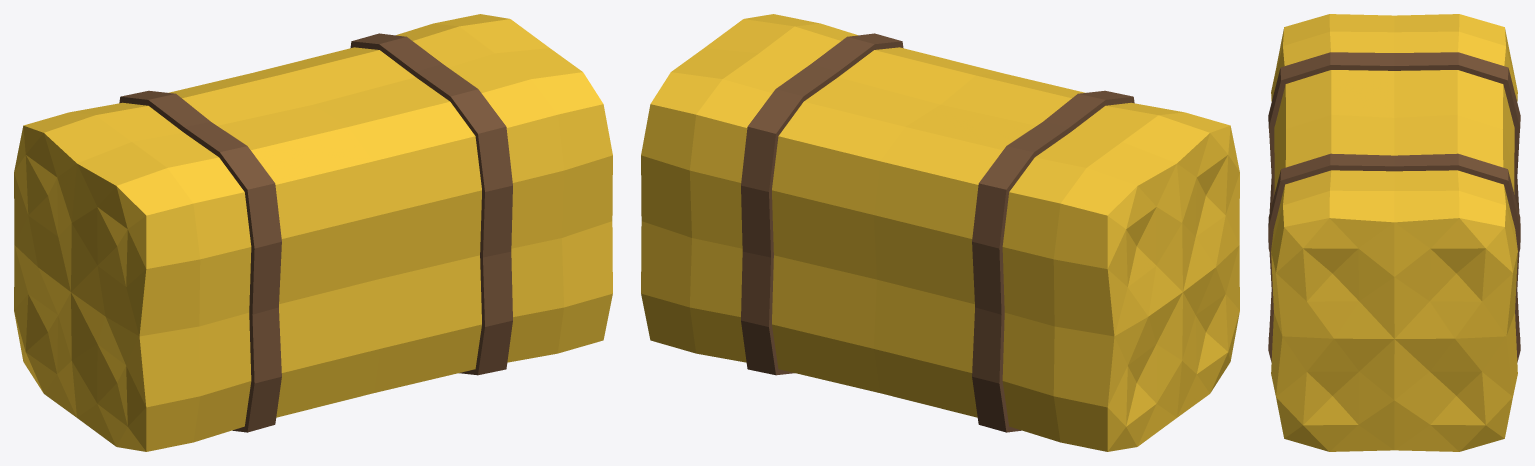
The model's file is Isl_3_Hay_1.fbx.
The picture shows the model from 3 angles, left to right: view 1: azimuth 30°, elevation 25°; view 2: azimuth 150°, elevation 25°; view 3: azimuth 270°, elevation 25°; orthographic projection. The views are drawn at different scales.
Visible parts, largest first — view 1: Isl_3_Hay_1; view 2: Isl_3_Hay_1; view 3: Isl_3_Hay_1.
Part boxes in pixels (x1,y1,x2,y2): Isl_3_Hay_1: [14, 14, 612, 451]; Isl_3_Hay_1: [641, 14, 1239, 451]; Isl_3_Hay_1: [1268, 14, 1520, 451].
Bounding box in the file's own units: 138 × 69.62 × 75.52.
Materials: 1 (1 with a texture image).
